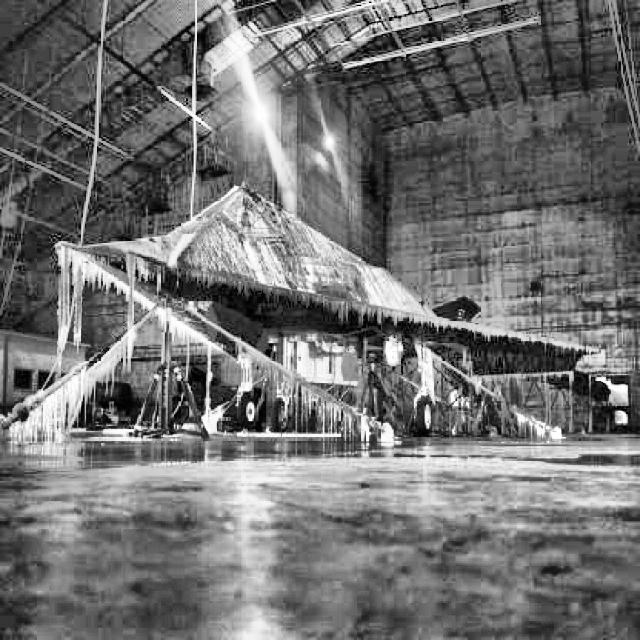F117: (54, 182, 604, 436)
